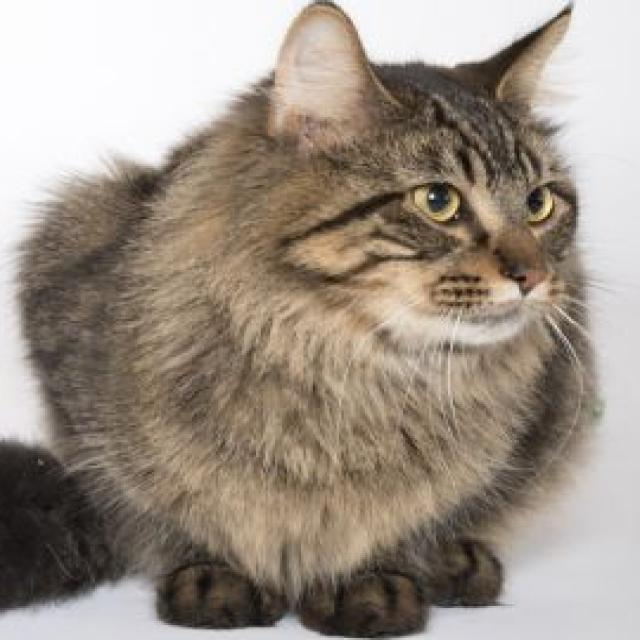Maine Coon: (9, 0, 604, 640)
